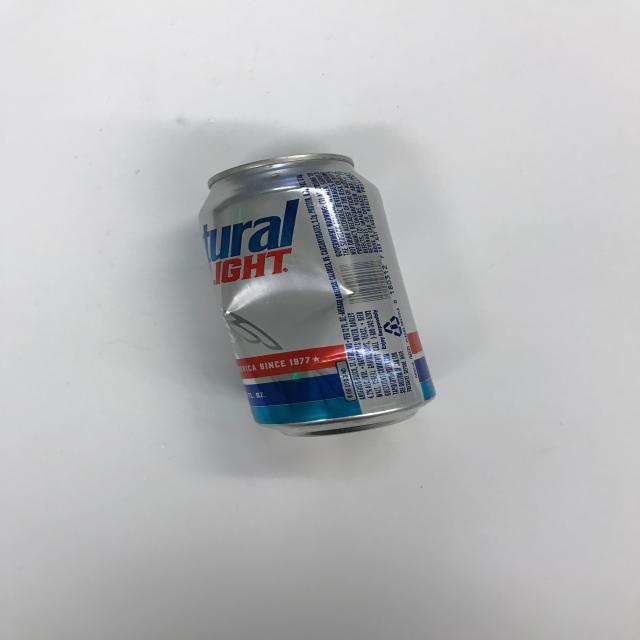metal: (193, 150, 441, 442)
